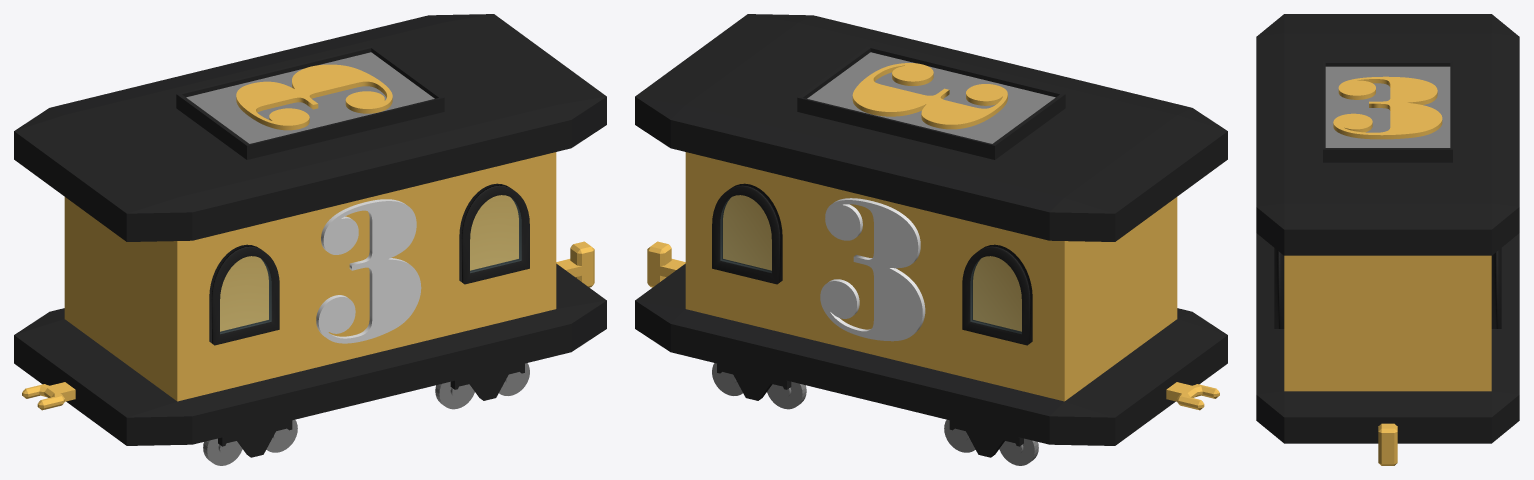
Rendered from traincar3 joined mesh3.fbx.
The picture shows the model from 3 angles, left to right: view 1: azimuth 30°, elevation 25°; view 2: azimuth 150°, elevation 25°; view 3: azimuth 270°, elevation 25°; orthographic projection. The views are drawn at different scales.
Visible parts, largest first — view 1: Cart3; view 2: Cart3; view 3: Cart3.
Part boxes in pixels (left/top/right/bottom): Cart3: left=14, top=14, right=606, bottom=465; Cart3: left=635, top=14, right=1227, bottom=465; Cart3: left=1256, top=14, right=1519, bottom=465.
Size of the model in its own units: 17.77 by 8.86 by 7.84.
